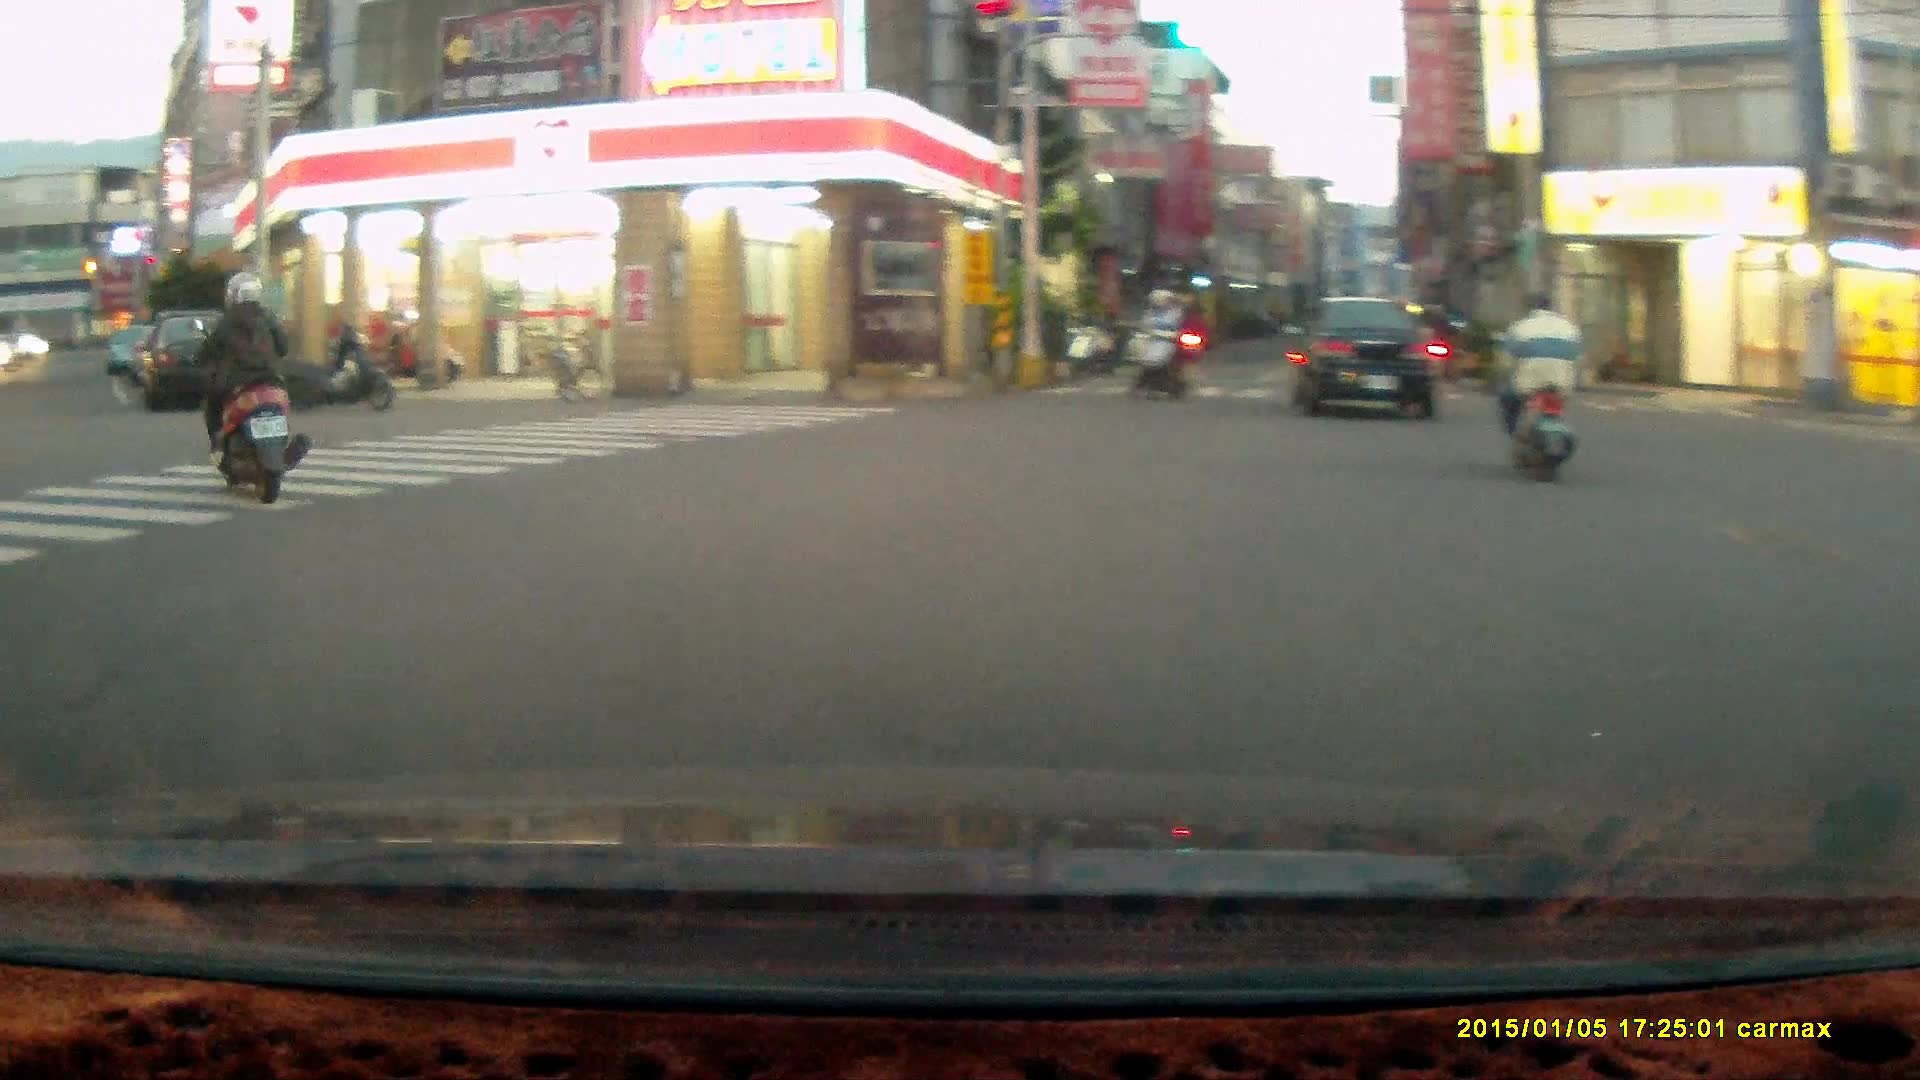rider: (193, 272, 312, 501), (1494, 288, 1588, 487), (1126, 283, 1190, 401)
vehicle: (1294, 296, 1449, 419), (139, 308, 267, 409)
